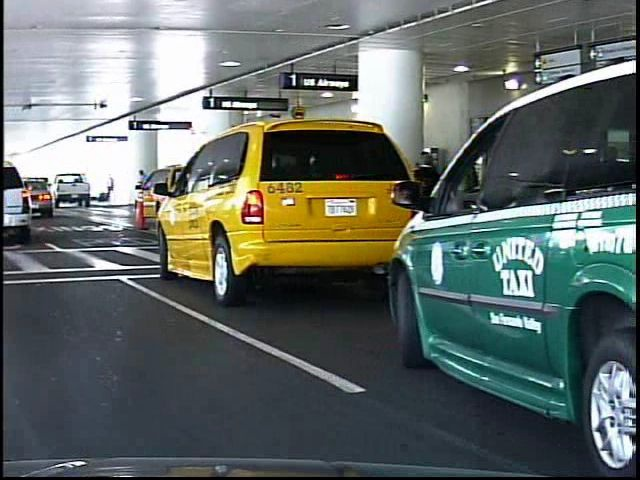person: (409, 149, 434, 195), (131, 169, 146, 208)
